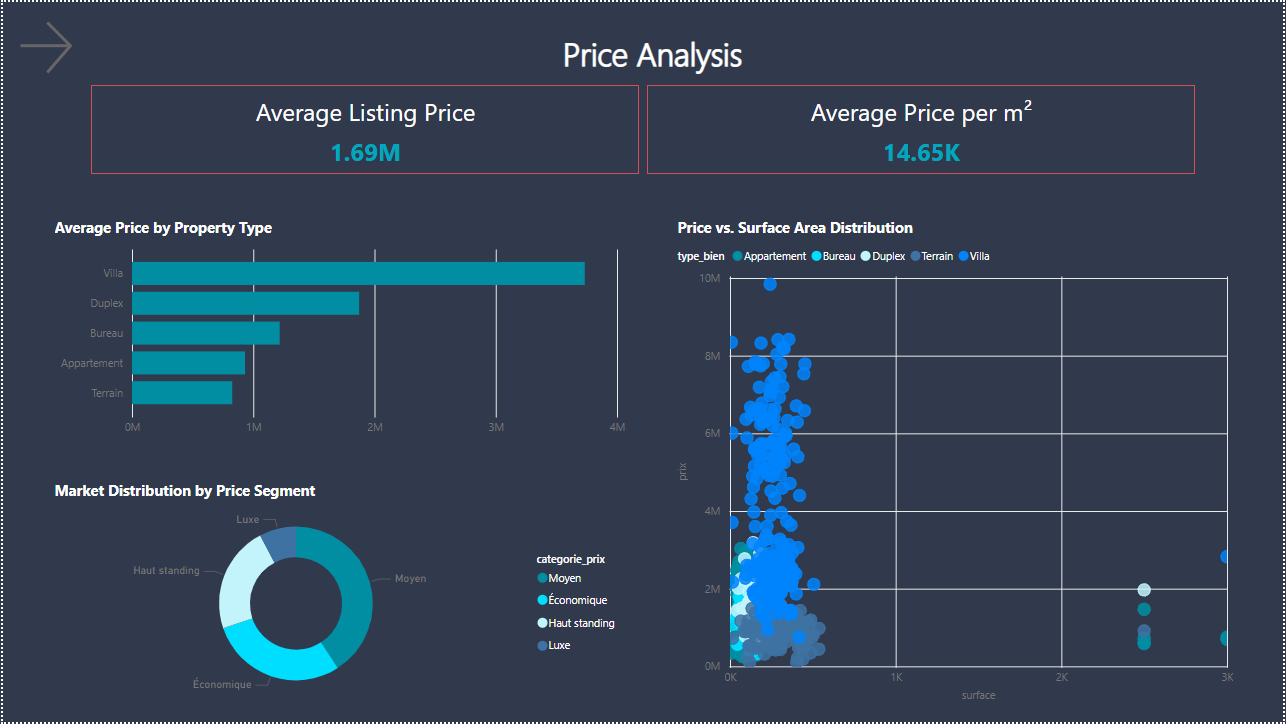

The page's visual inventory and layout, read from the dashboard file:
{"tool":"powerbi","page":{"name":"Price Analysis","canvas":[1280,720],"ordinal":1},"visuals":[{"type":"donutChart","title":"Market Distribution by Price Segment","fields":{"Category":["dim_caracteristiques.categorie_prix"],"Y":["_Measures.Total Ads"]},"box":[47.3,477.7,579.7,227.6],"z":1000},{"type":"clusteredBarChart","title":"Average Price by Property Type","fields":{"Category":["dim_caracteristiques.type_bien"],"Y":["_Measures.Average Price"]},"box":[47.3,215.2,579.7,227.6],"z":2000},{"type":"scatterChart","title":"Price vs. Surface Area Distribution","fields":{"Series":["dim_caracteristiques.type_bien"],"Y":["fact_annonces.prix"],"X":["fact_annonces.surface"]},"box":[670.5,215.2,564.8,490.1],"z":3000},{"type":"textbox","box":[490.1,23.6,319.7,70.9],"z":4000},{"type":"cardVisual","fields":{"Data":["_Measures.Average Price","_Measures.Avg Price per m2"]},"box":[83.3,78.4,1113.3,98.3],"z":4250},{"type":"actionButton","title":"2 Show Button","box":[9.9,12.7,70.6,65],"z":4500}]}

Visuals, with their boxes in screenshot pixels (x1, y1, x2, y2), scaled from the page's 1280x720 canvas onto the 1286x724 screenshot:
"Market Distribution by Price Segment" donutChart: locate(48, 480, 630, 709)
"Average Price by Property Type" clusteredBarChart: locate(48, 216, 630, 445)
"Price vs. Surface Area Distribution" scatterChart: locate(674, 216, 1241, 709)
textbox: locate(492, 24, 814, 95)
cardVisual - _Measures.Average Price x _Measures.Avg Price per m2: locate(84, 79, 1202, 178)
"2 Show Button" actionButton: locate(10, 13, 81, 78)
